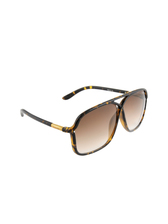glasses: (12, 80, 151, 160)
